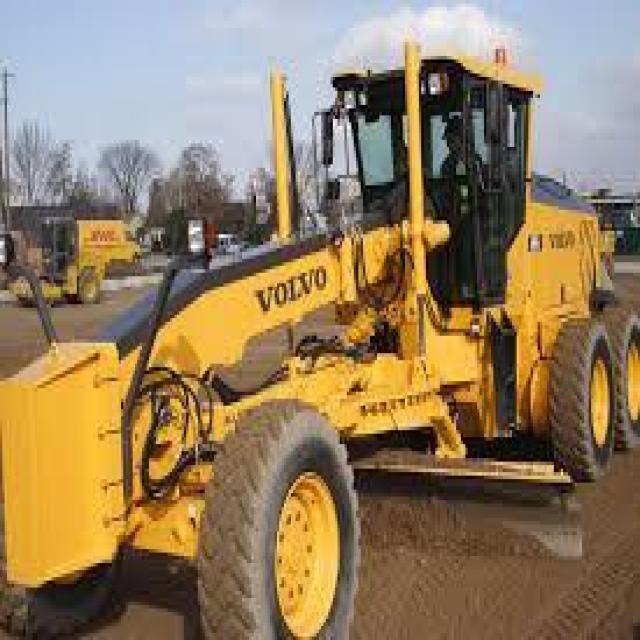buldozerpayloadergrader: (5, 42, 638, 636)
